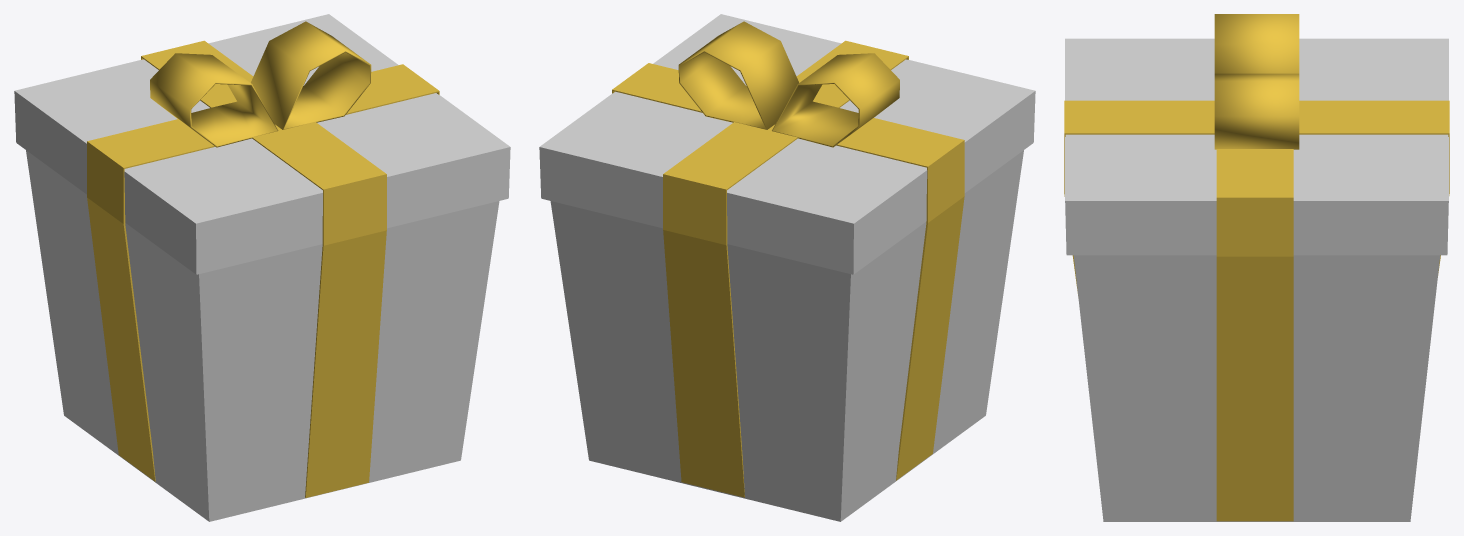
File: Cadeau_rouge2.fbx
3 views of the same model, side by side, from view 1: azimuth 30°, elevation 25°; view 2: azimuth 150°, elevation 25°; view 3: azimuth 270°, elevation 25° (orthographic). The views are drawn at different scales.
Parts seen in each view (by area): view 1: Cube.001; view 2: Cube.001; view 3: Cube.001.
Part boxes in pixels (left/top/right/bottom): Cube.001: left=14, top=14, right=510, bottom=521; Cube.001: left=539, top=14, right=1035, bottom=521; Cube.001: left=1064, top=14, right=1449, bottom=521.
Size of the model in its own units: 210 by 246 by 210.
